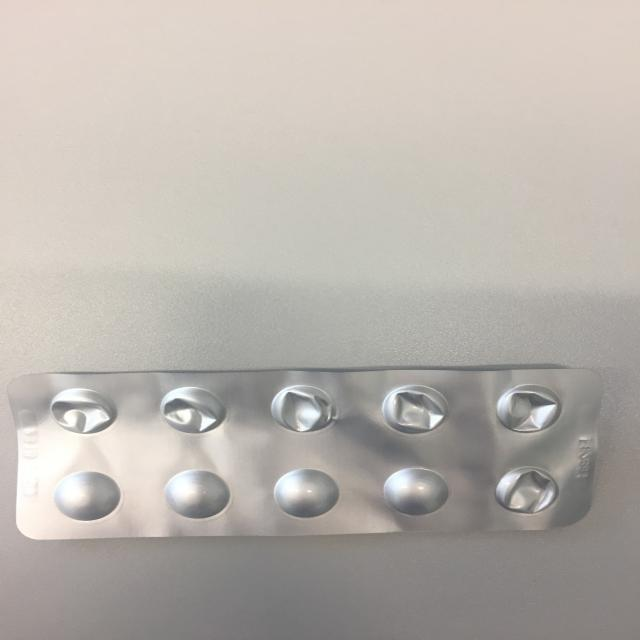Empty: (42, 387, 124, 436), (491, 382, 565, 436), (378, 382, 451, 436), (152, 386, 232, 434), (268, 384, 342, 435), (494, 464, 562, 517)
Pill: (379, 466, 456, 518), (49, 469, 122, 523), (158, 468, 233, 520), (270, 466, 342, 520)
